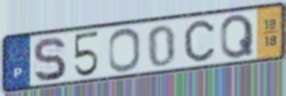0: (146, 23, 178, 68)
5: (72, 29, 101, 79)
C: (182, 19, 217, 64)
O: (107, 26, 143, 73)
Q: (219, 12, 256, 61)
S: (31, 35, 68, 84)
